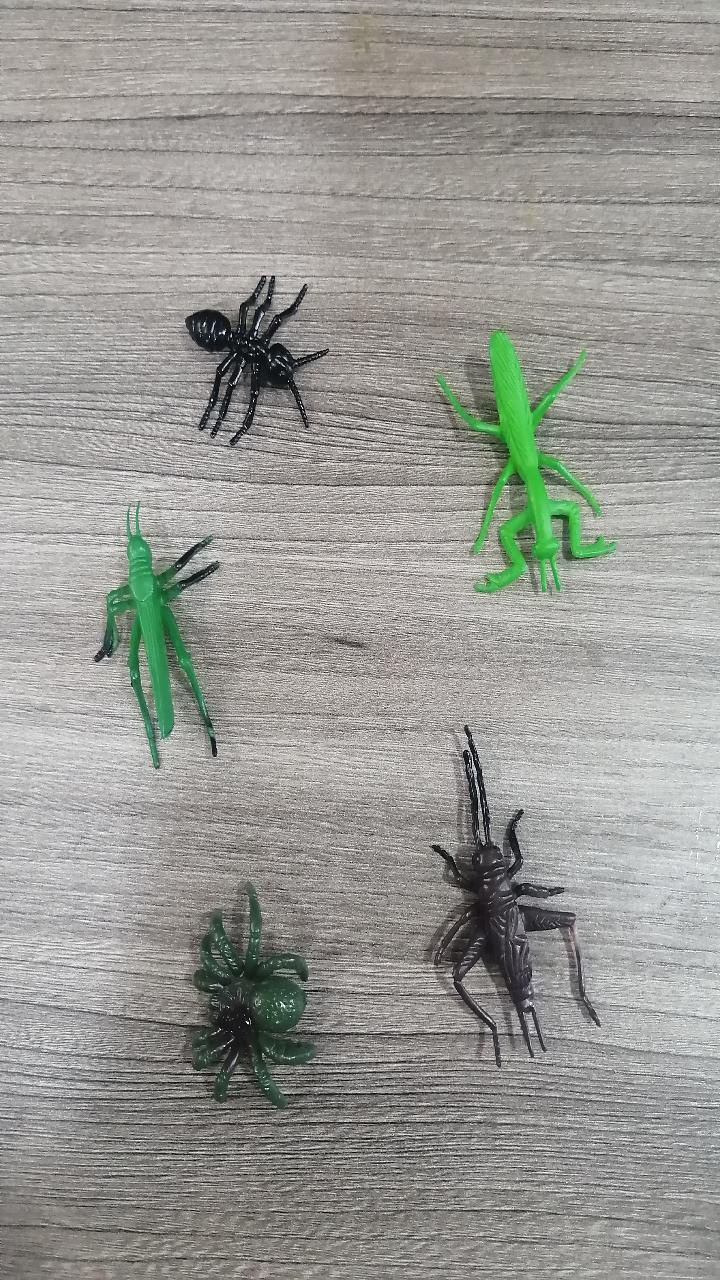intruso: (397, 706, 628, 1091), (409, 300, 638, 651), (69, 483, 251, 789), (146, 852, 340, 1123), (140, 219, 341, 465)
